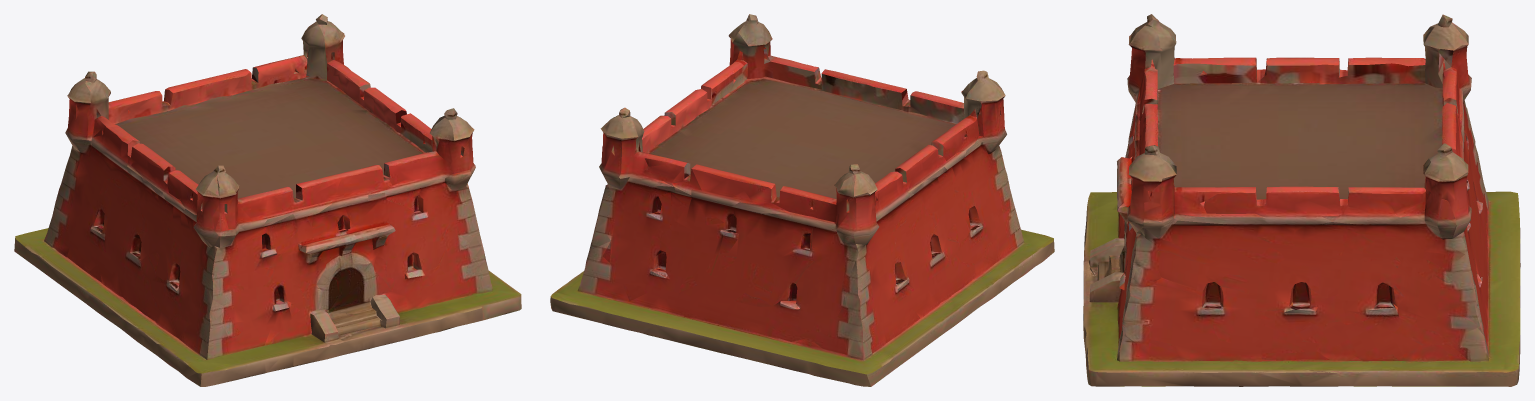
File: fort-santo-domingo.glb
3 renders of one model, left to right at view 1: azimuth 30°, elevation 25°; view 2: azimuth 150°, elevation 25°; view 3: azimuth 270°, elevation 25°, orthographic. The views are drawn at different scales.
Parts seen in each view (by area): view 1: logan-textured.obj; view 2: logan-textured.obj; view 3: logan-textured.obj.
Part boxes in pixels (left/top/right/bottom): logan-textured.obj: left=14, top=14, right=521, bottom=386; logan-textured.obj: left=550, top=14, right=1054, bottom=386; logan-textured.obj: left=1083, top=14, right=1520, bottom=386.
Size of the model in its own units: 0.9774 by 0.552 by 1.
Materials: 1 (1 with a texture image).
